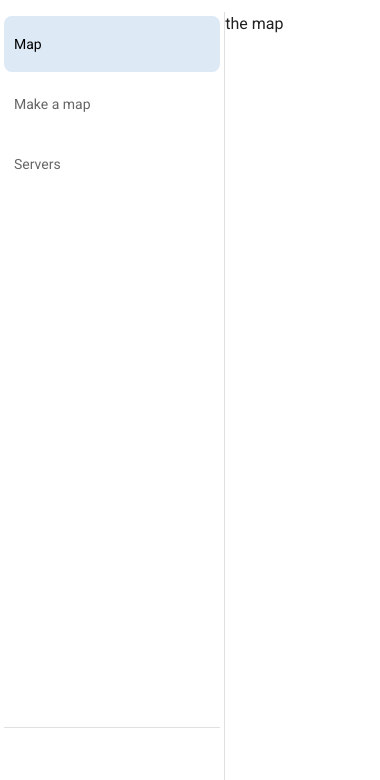
the tab and group appearance editors › lists Edit tab appearance... in the ordinary right-click menu
Right-click the tab "Map" at (112, 44), box 4,16 -> 220,72
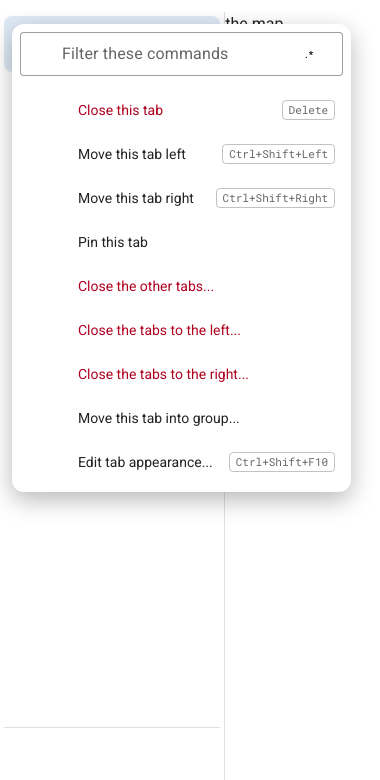
Result: the text "Edit tab appearance..." is shown at 78,454 -> 213,470
